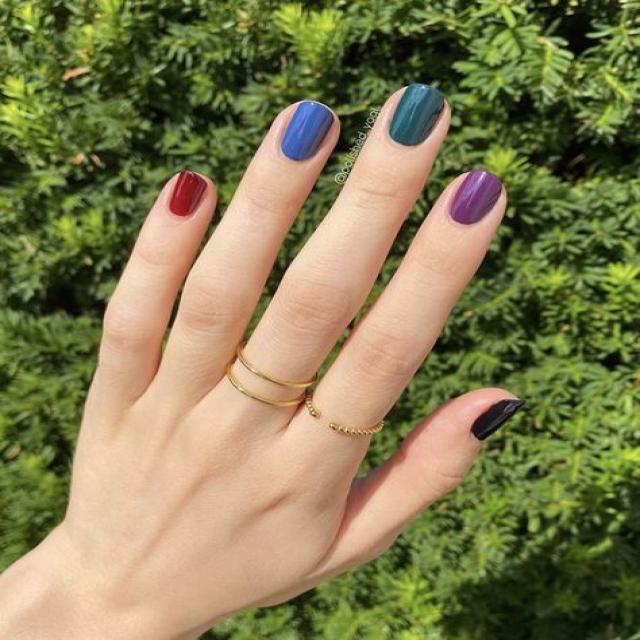Fingernail: (390, 84, 444, 146), (281, 102, 335, 162), (449, 170, 502, 225), (471, 400, 526, 441), (169, 170, 207, 217)
